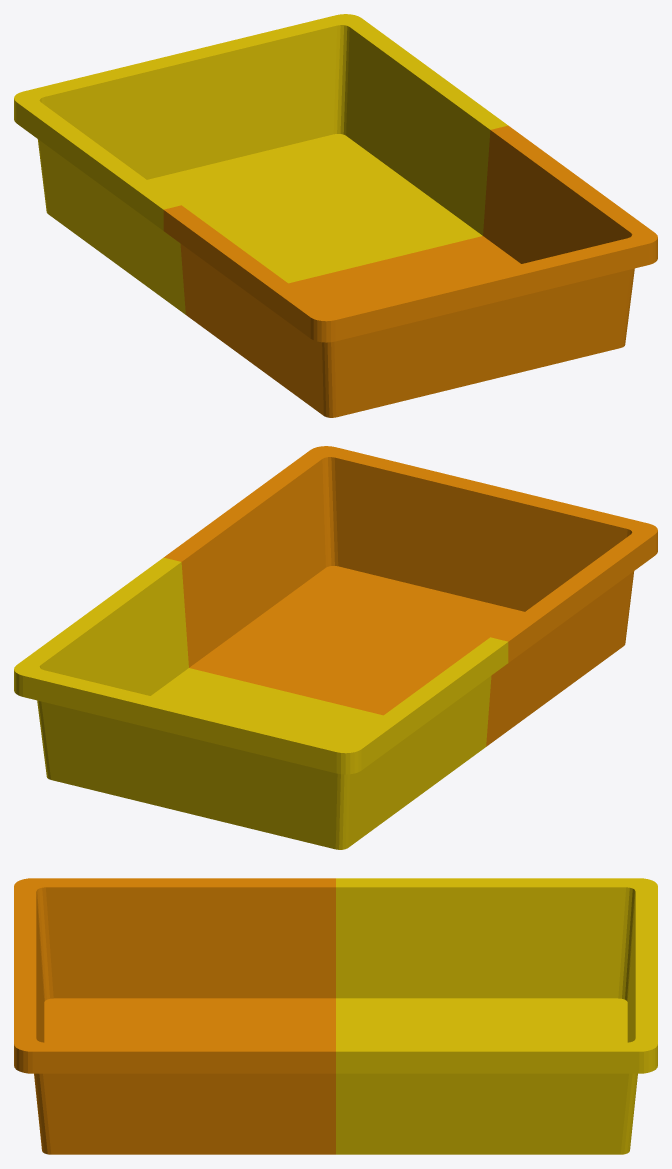
Rendered from container.dae.
The picture shows the model from 3 angles, top to bottom: view 1: azimuth 30°, elevation 25°; view 2: azimuth 150°, elevation 25°; view 3: azimuth 270°, elevation 25°; orthographic projection. The views are drawn at different scales.
Visible parts, largest first — view 1: Cube, Cube_003; view 2: Cube_003, Cube; view 3: Cube, Cube_003.
Boxes of the visible parts, x1,y1,x2,y2 form: Cube: (14,14,507,314); Cube_003: (163,125,657,417); Cube_003: (164,446,657,746); Cube: (14,557,508,849); Cube: (336,878,657,1154); Cube_003: (14,878,335,1154).
Size of the model in its own units: 0.44 by 0.69 by 0.135.
